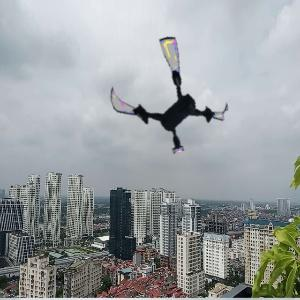drone: (111, 39, 227, 155)
